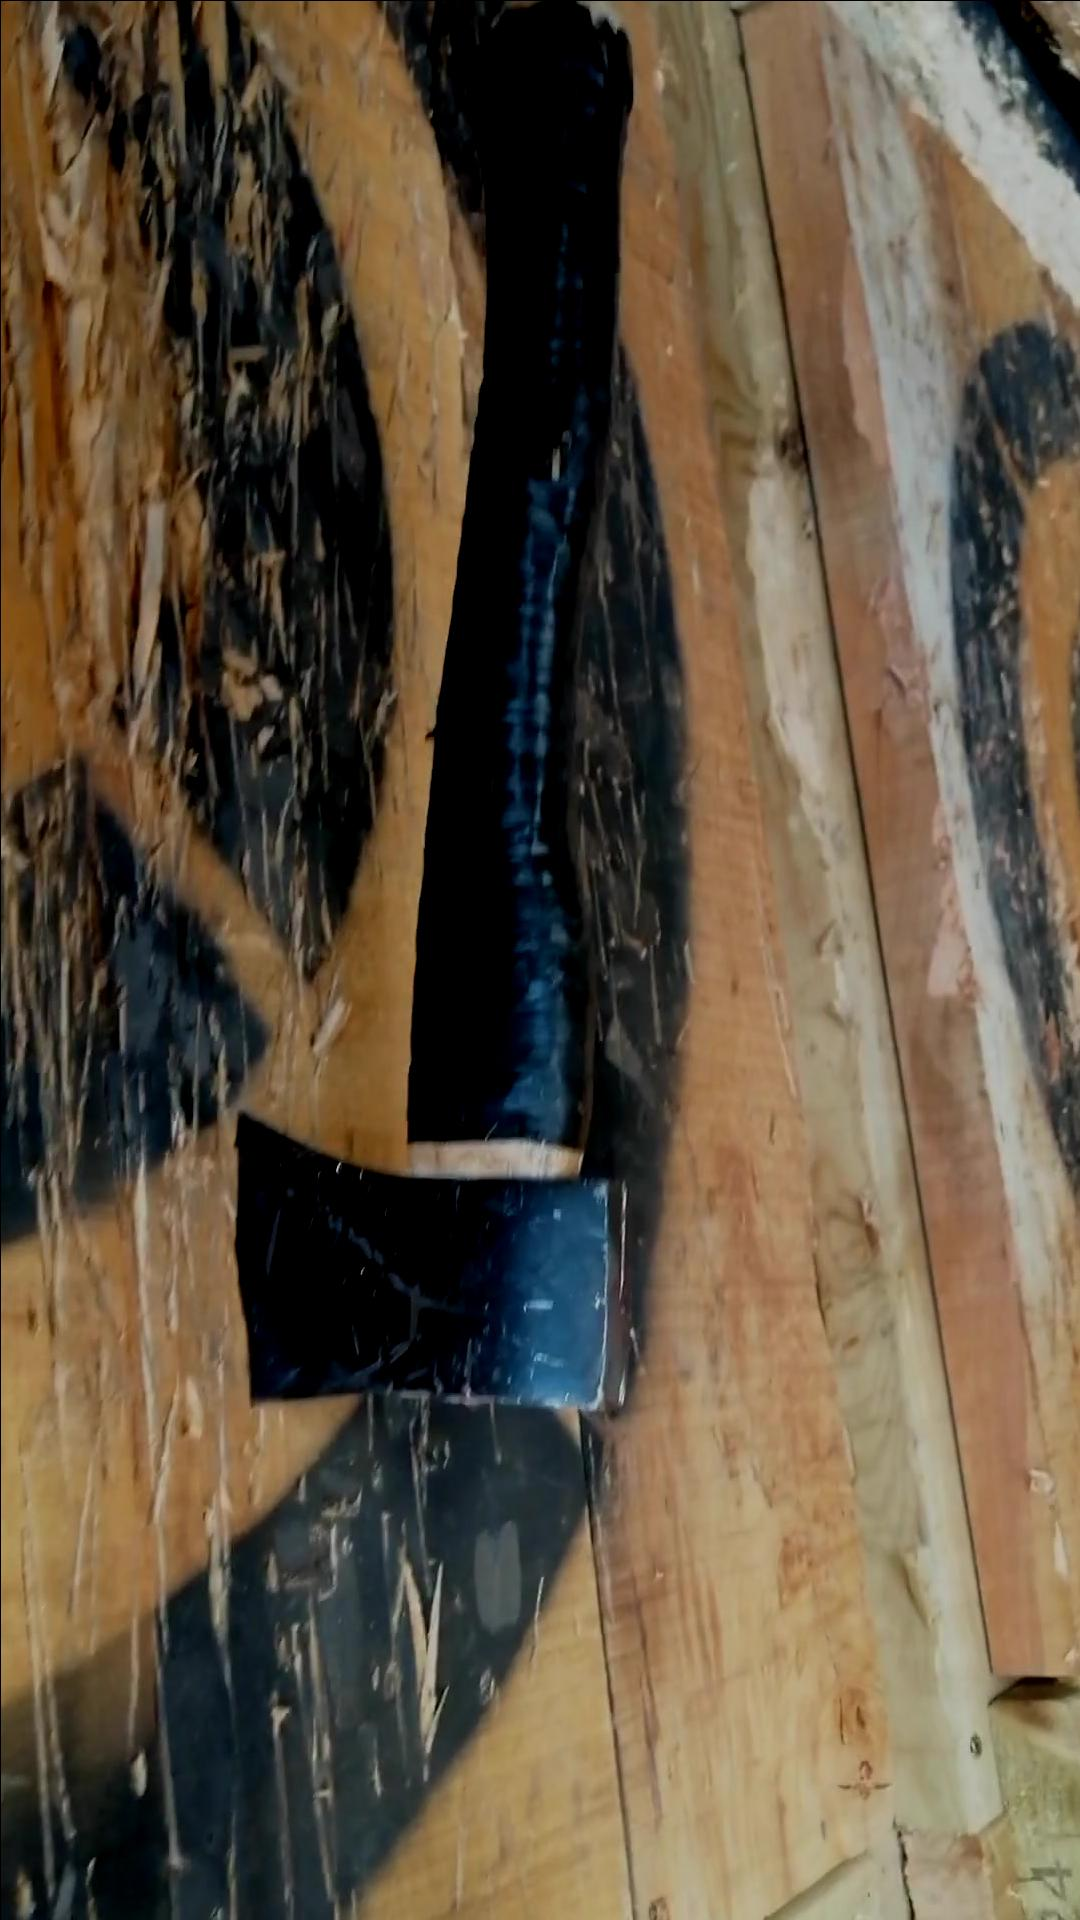Hand Axe: (222, 1100, 637, 1412)
